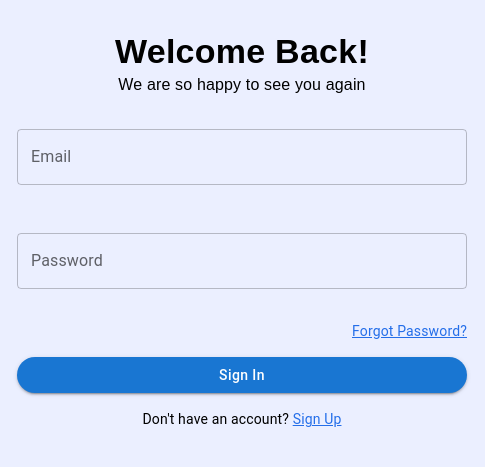
Test: SignIn › shows validation error when required fields are not entered
The width and height of the screenshot is (485, 467).
Click the button "Sign In" at (242, 375), box [17,357,467,393]
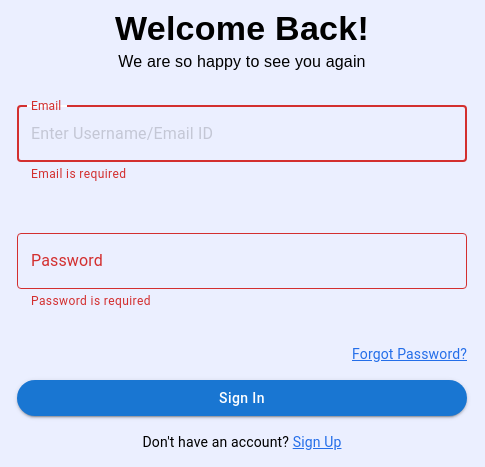
Expected: the text "Email is required" is shown, [31,167,126,181]
Expected: the text "Password is required" is shown, [31,294,151,308]
